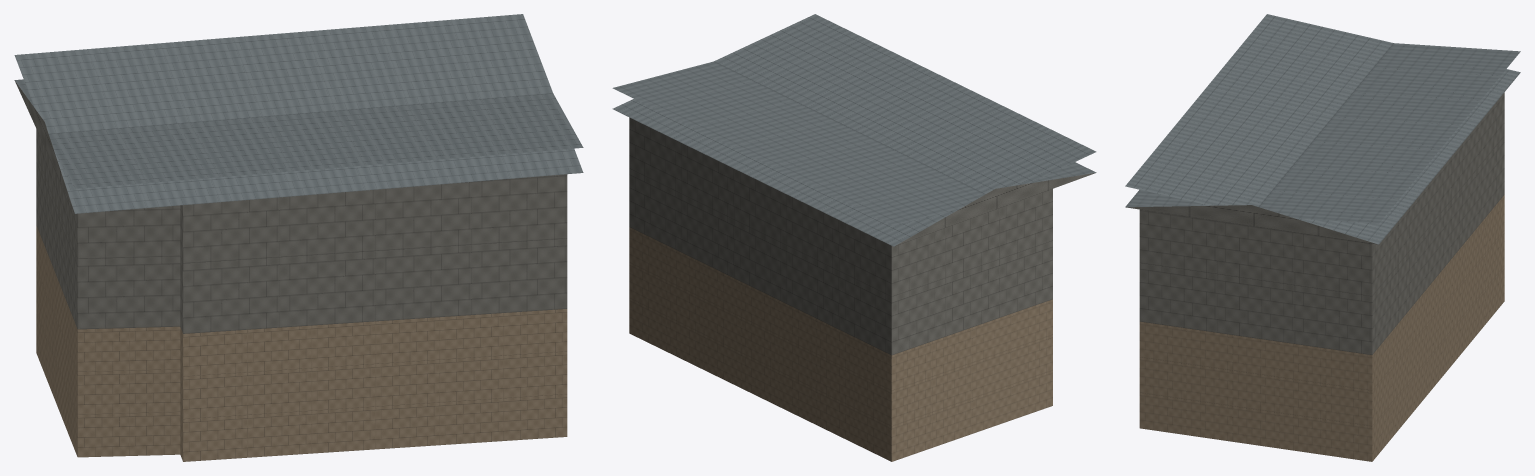
File: bld_c3_19_461.gltf
3 renders of one model, left to right at view 1: azimuth 30°, elevation 25°; view 2: azimuth 150°, elevation 25°; view 3: azimuth 270°, elevation 25°, orthographic. The views are drawn at different scales.
Parts seen in each view (by area): view 1: bld_c3_19_461; view 2: bld_c3_19_461; view 3: bld_c3_19_461.
Boxes of the visible parts, bbox=[...] form: bld_c3_19_461: bbox=[14, 14, 583, 461]; bld_c3_19_461: bbox=[612, 14, 1096, 461]; bld_c3_19_461: bbox=[1125, 14, 1520, 461].
Bounding box in the file's own units: 21.48 × 11.7 × 17.14.
Materials: 4 (4 with a texture image).
